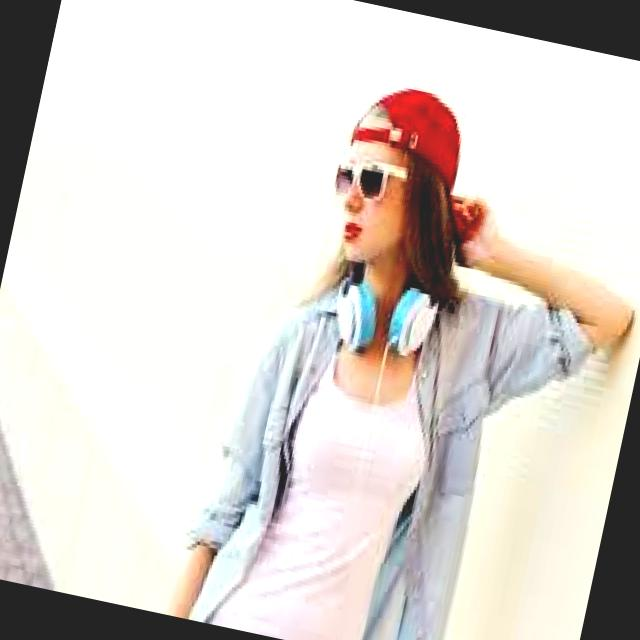hat: (351, 88, 461, 191)
